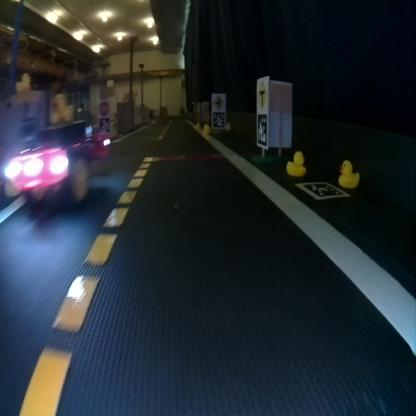Duckie: (50, 94, 73, 122), (338, 160, 359, 186), (285, 151, 305, 175), (15, 72, 30, 92), (203, 124, 209, 132), (225, 122, 231, 129), (195, 122, 200, 129)
Duckiebot: (4, 119, 110, 204)
Intersection sign: (258, 79, 266, 109), (213, 94, 224, 108)
QR code: (296, 182, 348, 198), (256, 112, 267, 146), (211, 112, 223, 126)
Stop sign: (100, 102, 108, 116)
